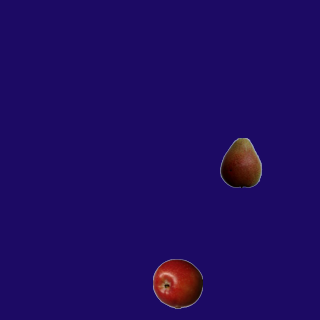Apple Braeburn: (152, 258, 202, 308)
Pear Forelle: (215, 137, 265, 187)
